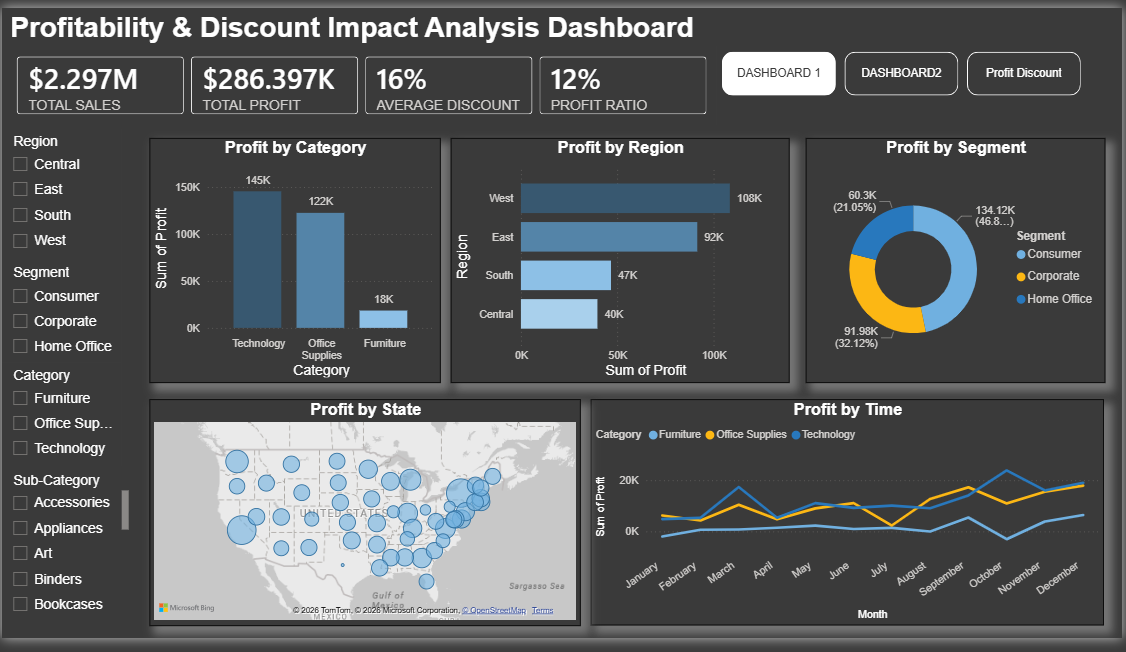

This screenshot's page, from the dashboard's own definition file:
{"tool":"powerbi","page":{"name":"DASHBOARD 1","canvas":[1280,720],"ordinal":0},"visuals":[{"type":"cardVisual","fields":{"Data":["Sum(Sample_Superstore_Clean.Sales)","Sum(Sample_Superstore_Clean.Profit)","Avg(Sample_Superstore_Clean.Discount)","Sample_Superstore_Clean.Profit Ratio"]},"box":[0,38.6,822.9,100],"z":0},{"type":"textbox","box":[0,0,800,50],"z":1000},{"type":"slicer","fields":{"Values":["Sample_Superstore_Clean.Segment"]},"box":[0,288.6,137.1,117.1],"z":2000},{"type":"slicer","fields":{"Values":["Sample_Superstore_Clean.Region"]},"box":[0,138.6,137.1,150],"z":3000},{"type":"slicer","fields":{"Values":["Sample_Superstore_Clean.Category"]},"box":[0,405.7,137.1,118.6],"z":4000},{"type":"columnChart","title":"Profit by Category","fields":{"Category":["Sample_Superstore_Clean.Category"],"Y":["Sum(Sample_Superstore_Clean.Profit)"]},"box":[168.6,148.6,332.9,280],"z":5000},{"type":"barChart","title":"Profit by Region","fields":{"Category":["Sample_Superstore_Clean.Region"],"Y":["Sum(Sample_Superstore_Clean.Profit)"]},"box":[512.9,148.6,387.1,280],"z":6000},{"type":"donutChart","title":"Profit by Segment","fields":{"Category":["Sample_Superstore_Clean.Segment"],"Y":["Sum(Sample_Superstore_Clean.Profit)"]},"box":[918.3,147.9,342.3,280.3],"z":7000},{"type":"lineChart","title":"Profit by Time","fields":{"Category":["Sample_Superstore_Clean.Order Date.Variation.Date Hierarchy.Year","Sample_Superstore_Clean.Order Date.Variation.Date Hierarchy.Quarter","Sample_Superstore_Clean.Order Date.Variation.Date Hierarchy.Month","Sample_Superstore_Clean.Order Date.Variation.Date Hierarchy.Day"],"Y":["Sum(Sample_Superstore_Clean.Profit)"],"Series":["Sample_Superstore_Clean.Category"]},"box":[673.3,446.7,586.7,258.3],"z":8000},{"type":"map","title":"Profit by State","fields":{"Category":["Sample_Superstore_Clean.State"],"Size":["Sum(Sample_Superstore_Clean.Profit)"]},"box":[169,446.5,493,259.2],"z":9000},{"type":"slicer","fields":{"Values":["Sample_Superstore_Clean.Sub-Category"]},"box":[0,525,150,180],"z":10000},{"type":"pageNavigator","box":[822.9,50,410,50],"z":11000}]}

Visuals, with their boxes in screenshot pixels (x1, y1, x2, y2), scaled from the page's 1280x720 canvas onto the 1126x652 screenshot:
cardVisual - Sum(Sample_Superstore_Clean.Sales) x Sum(Sample_Superstore_Clean.Profit): 0,35,724,126
textbox: 0,0,704,45
slicer - Sample_Superstore_Clean.Segment: 0,261,121,367
slicer - Sample_Superstore_Clean.Region: 0,126,121,261
slicer - Sample_Superstore_Clean.Category: 0,367,121,475
"Profit by Category" columnChart: 148,135,441,388
"Profit by Region" barChart: 451,135,792,388
"Profit by Segment" donutChart: 808,134,1109,388
"Profit by Time" lineChart: 592,405,1108,638
"Profit by State" map: 149,404,582,639
slicer - Sample_Superstore_Clean.Sub-Category: 0,475,132,638
pageNavigator: 724,45,1085,91
